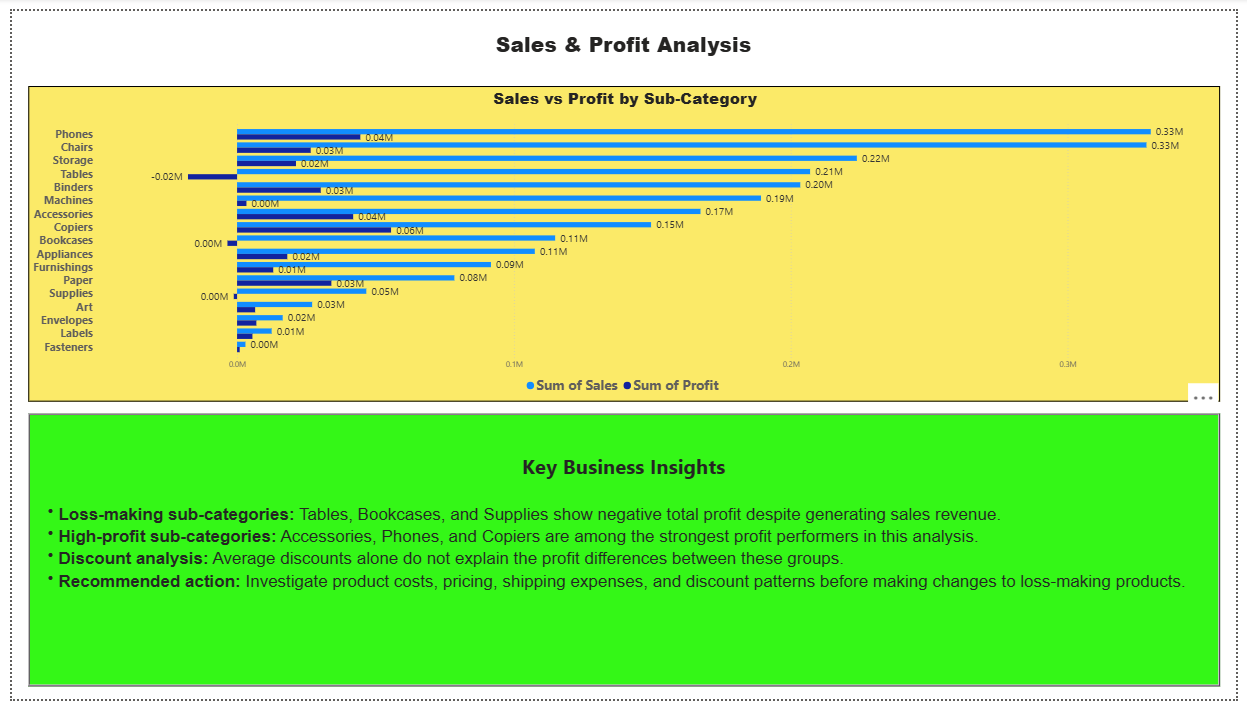

What the dashboard file says about the page in this screenshot:
{"tool":"powerbi","page":{"name":"Sales and Profit Analysis","canvas":[1920,1080],"ordinal":2},"visuals":[{"type":"clusteredBarChart","title":"Sales vs Profit by Sub-Category","fields":{"Category":["Sample - Superstore.Sub-Category"],"Y":["Sum(Sample - Superstore.Sales)","Sum(Sample - Superstore.Profit)"]},"box":[25.6,117.9,1869.2,494.9],"z":0},{"type":"textbox","box":[25.6,630.8,1869.2,428.2],"z":1000},{"type":"textbox","box":[24.5,24.5,1871.4,91.8],"z":2000}]}

Visuals, with their boxes in screenshot pixels (x1, y1, x2, y2), scaled from the page's 1920x1080 canvas onto the 1247x711 screenshot:
"Sales vs Profit by Sub-Category" clusteredBarChart: 17 78 1231 403
textbox: 17 415 1231 697
textbox: 16 16 1231 77
